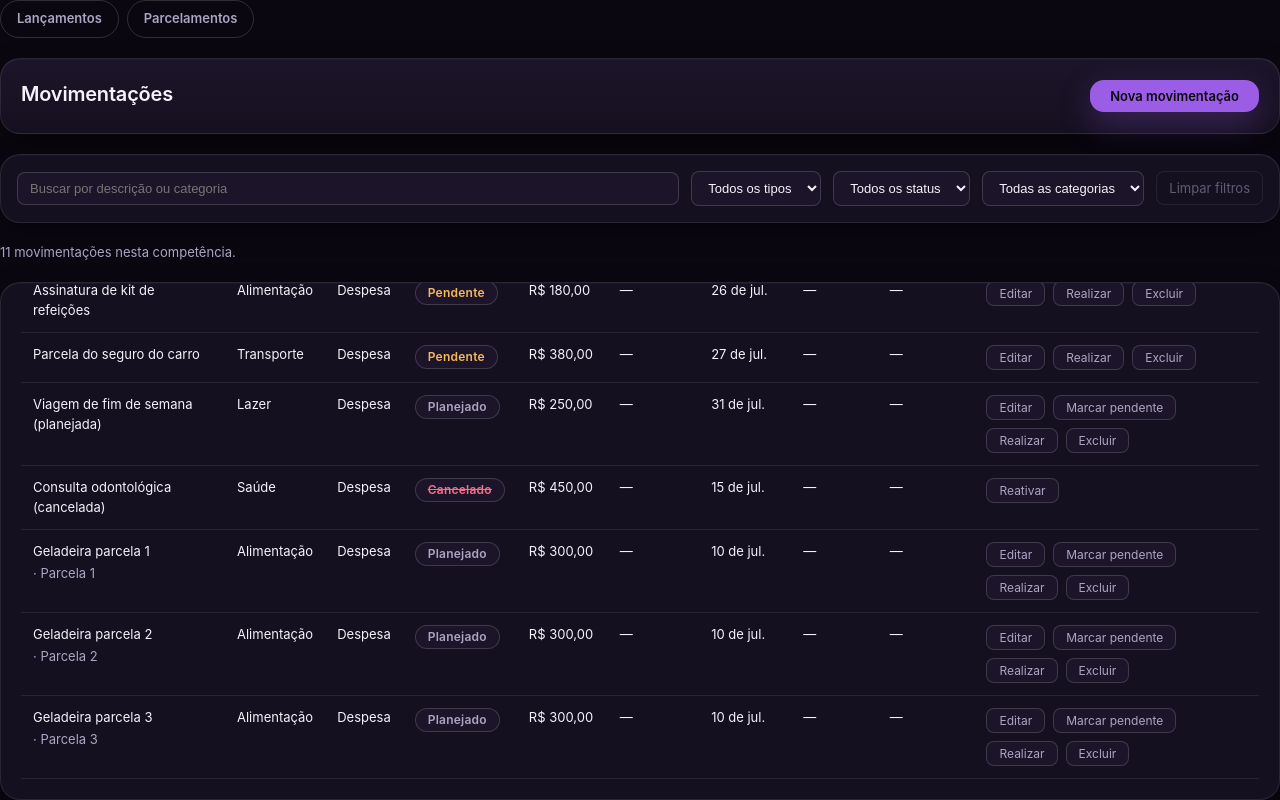
Test: FinancialEntriesPage — independência entre parcelas de um mesmo plano (Sessão 12, Bloco 06) › realizar a parcela 2/3 não altera status, valor ou rótulo das parcelas irmãs 1/3 e 3/3
(page scrolled)
Click the 5th button "Realizar" at (1022, 670), box top-left (986, 658), bottom-right (1058, 683)
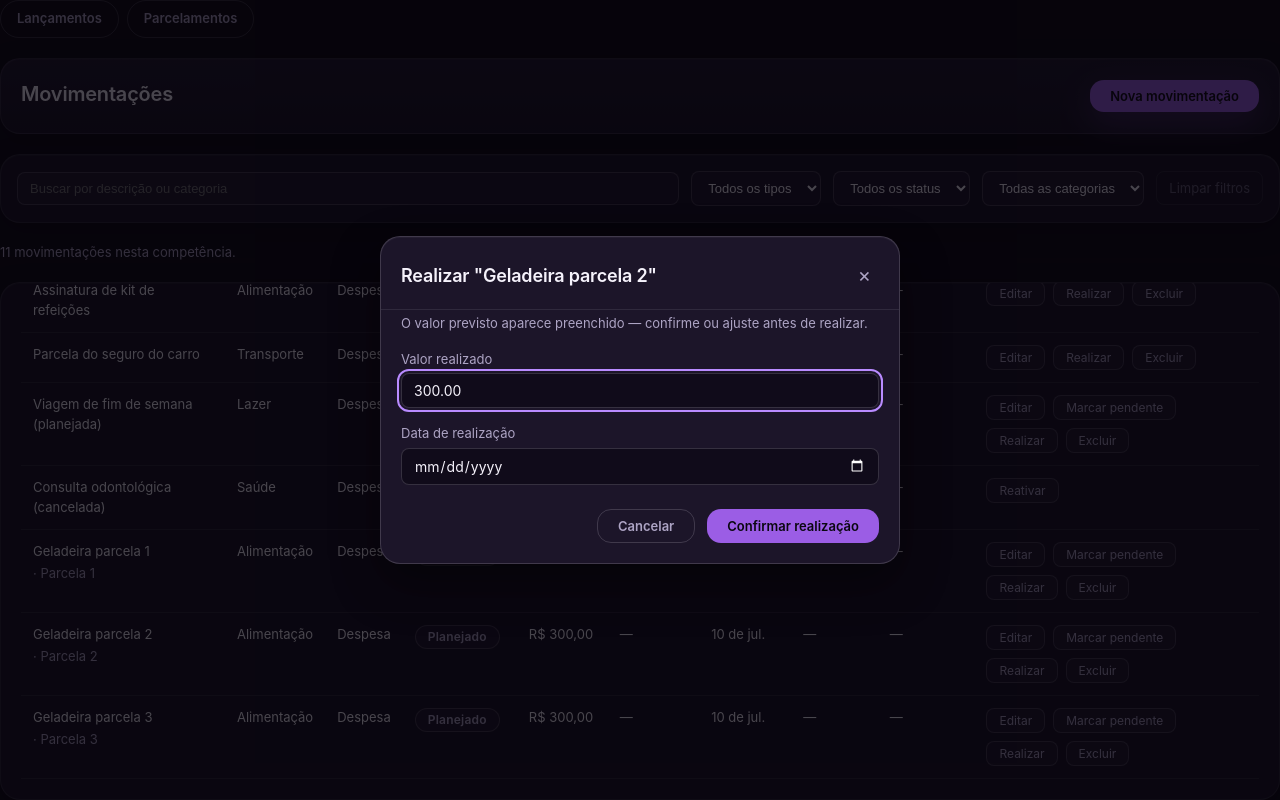
Type "2026-07-15" into the date field labelled "Data de realização" at (640, 466), box top-left (401, 448), bottom-right (879, 485)
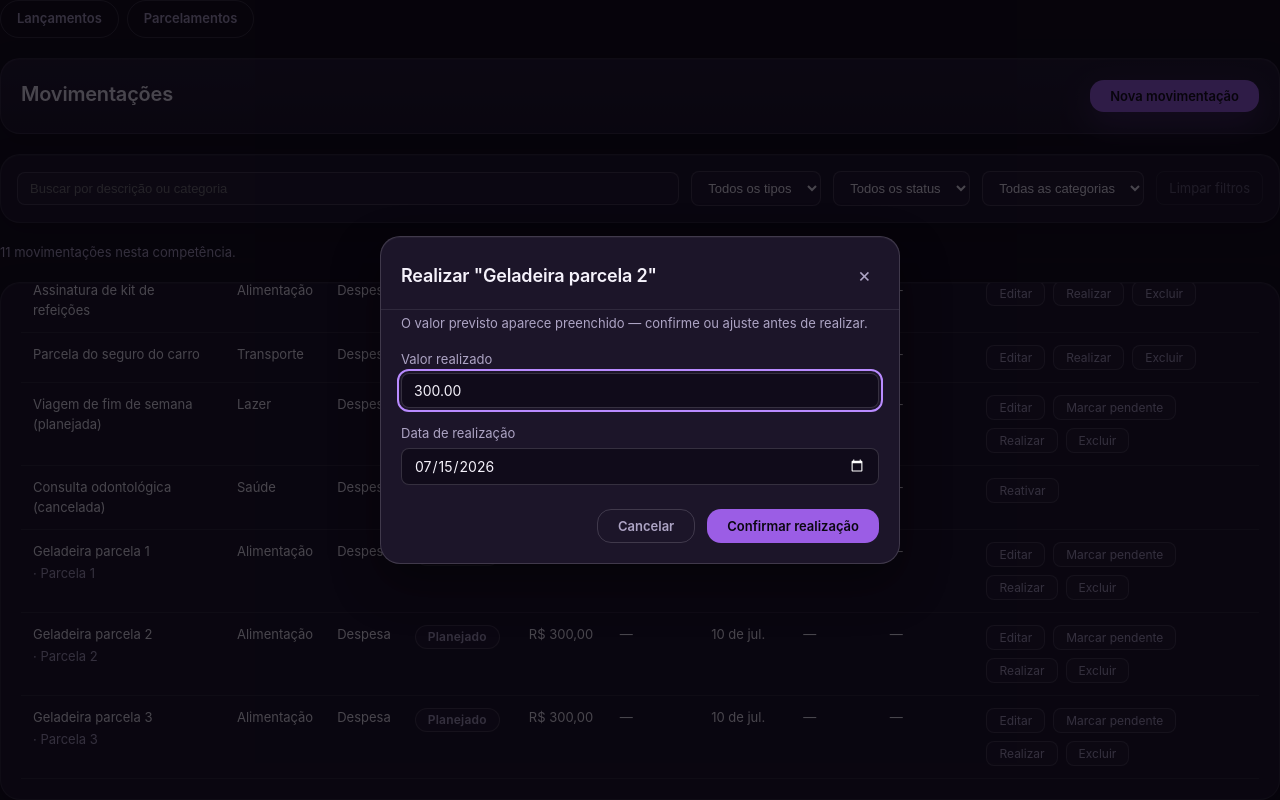
Click the button "Confirmar realização" at (793, 526), box top-left (707, 509), bottom-right (879, 543)
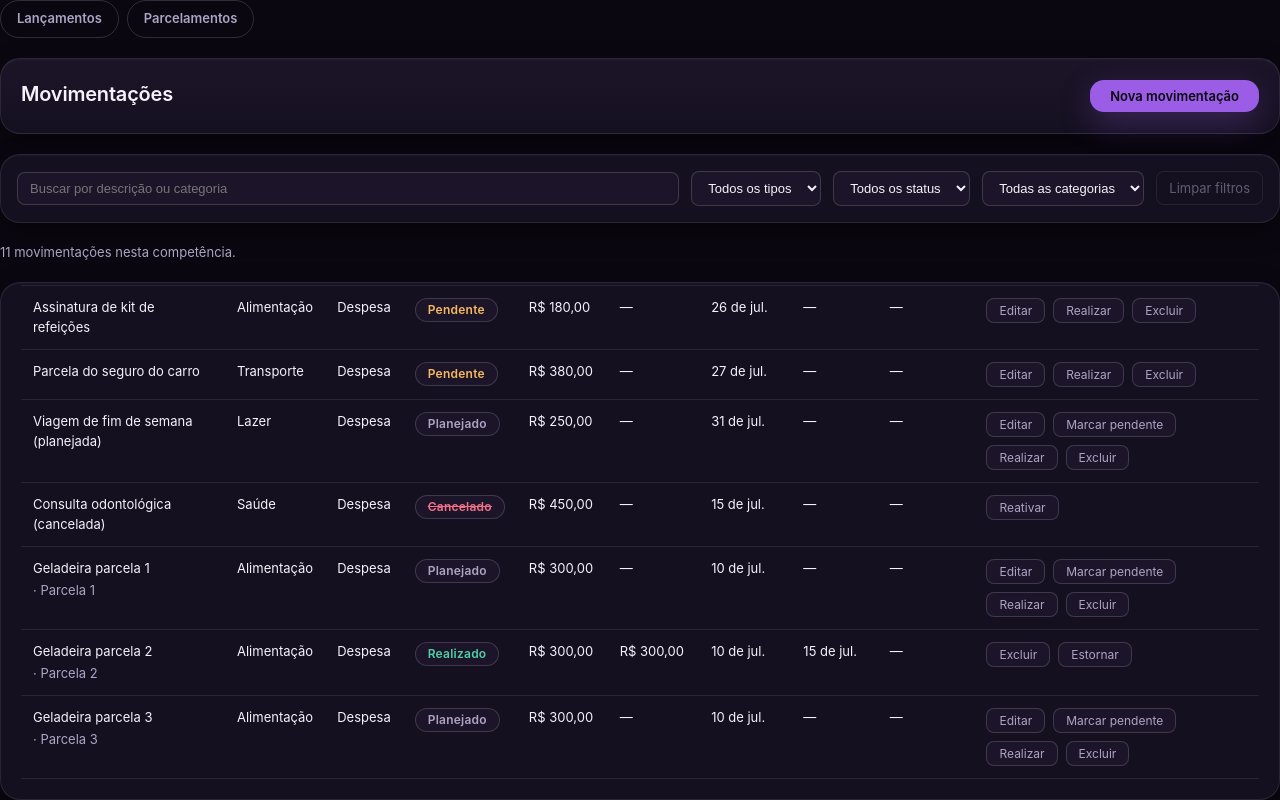
Check: the text "Planejado" in the row of "Geladeira parcela 1" is shown, box top-left (428, 563), bottom-right (487, 578)
Check: the dialog is gone
Check: the text "Realizado" is shown, box top-left (415, 642), bottom-right (499, 666)
